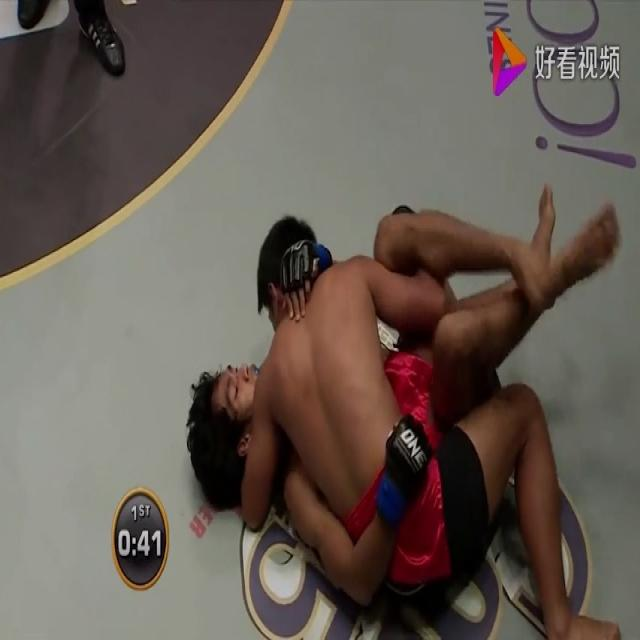fight: (186, 174, 628, 640)
